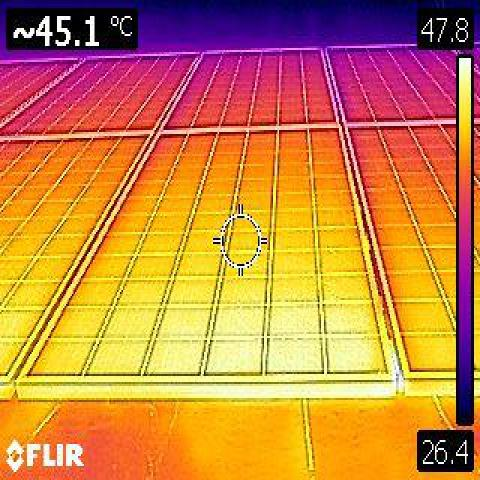fault: (225, 303, 370, 373)
